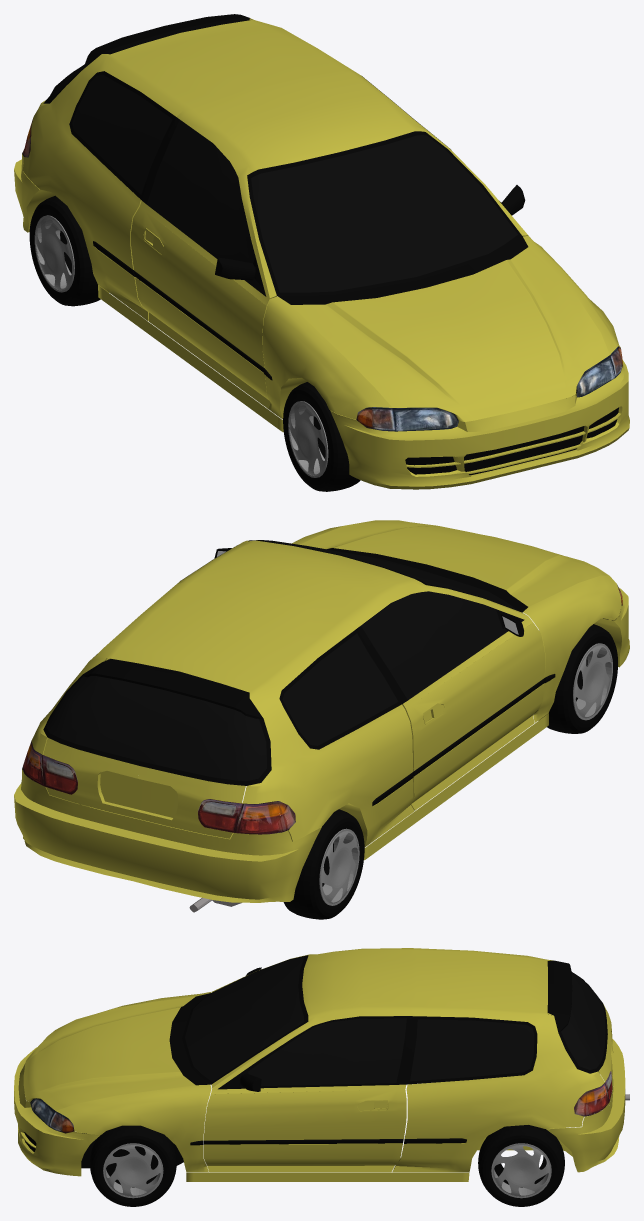
File: civic.glb
3 renders of one model, top to bottom at view 1: azimuth 30°, elevation 25°; view 2: azimuth 150°, elevation 25°; view 3: azimuth 270°, elevation 25°, orthographic. The views are drawn at different scales.
Visible parts, largest first — view 1: body, wheel1, wheel3, wheel0; view 2: body, wheel3, wheel1, wheel2; view 3: body, wheel0, wheel2.
Part boxes in pixels (x1,y1,x2,y2): body: [14, 14, 629, 489]; wheel1: [283, 382, 458, 491]; wheel3: [22, 119, 100, 306]; wheel0: [575, 346, 622, 397]; body: [14, 520, 629, 902]; wheel3: [189, 799, 364, 919]; wheel1: [535, 585, 622, 733]; wheel2: [22, 741, 77, 794]; body: [14, 948, 625, 1181]; wheel0: [30, 1098, 183, 1206]; wheel2: [478, 1071, 612, 1206].
Bounding box in the file's own units: 1.81 × 1.32 × 4.07.
Materials: 9 (1 with a texture image).
